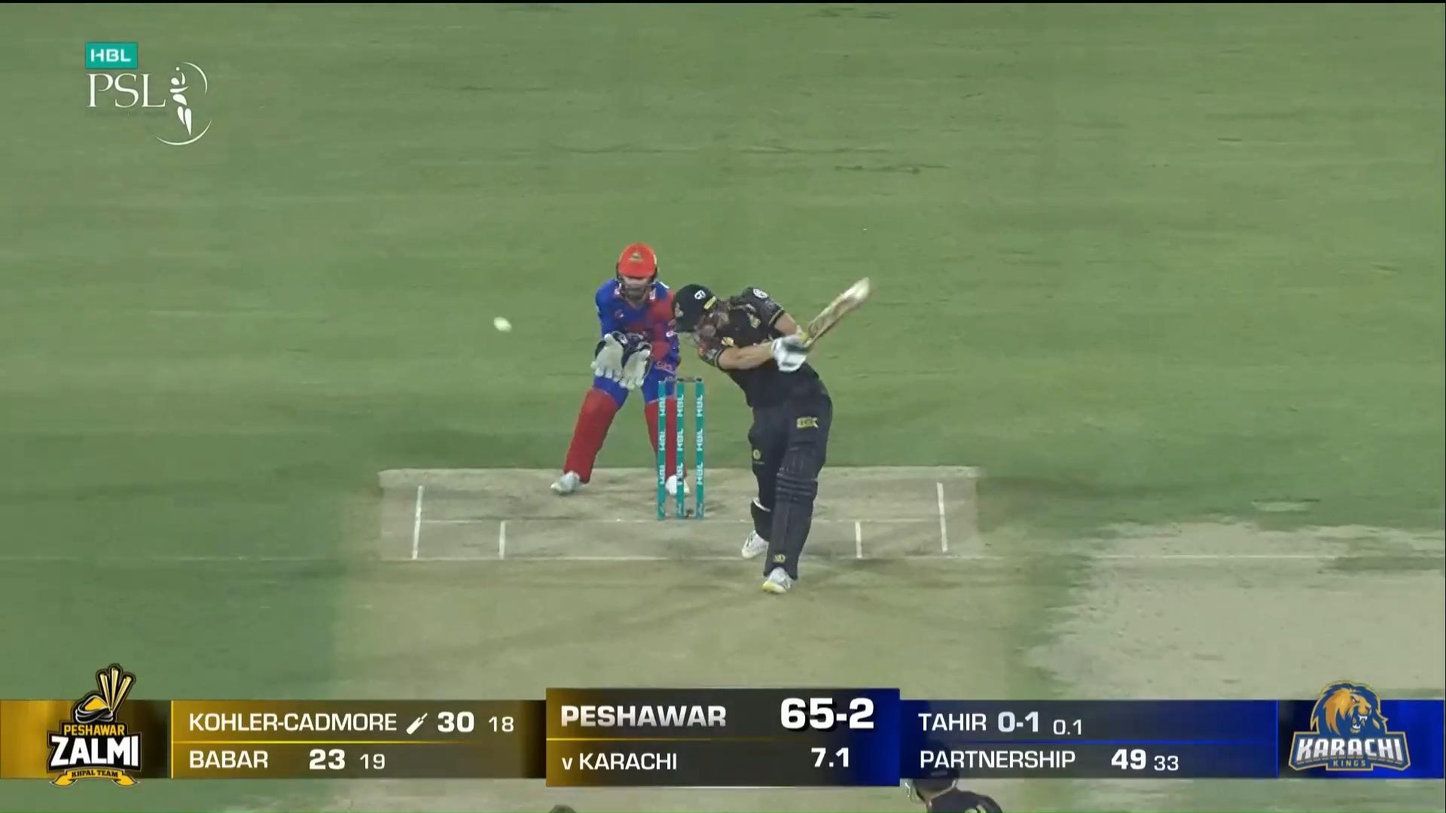batsman: (670, 275, 872, 594)
